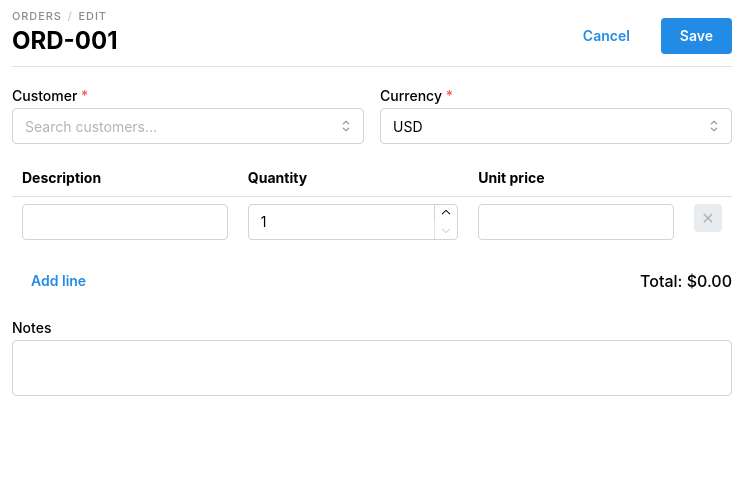
Test: OrderForm › shows a form-level alert for a whole-array error instead of dropping it silently
Click the field labelled "Customer *": (188, 126) [12, 108, 364, 144]
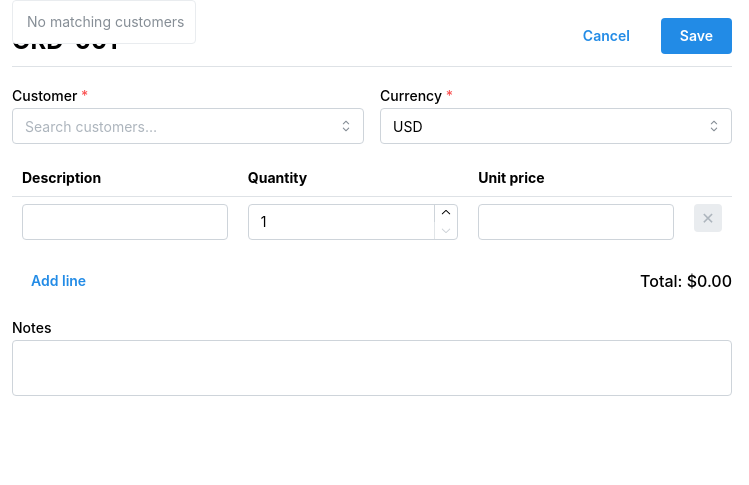
Focus the field labelled "Customer *": (188, 126) [12, 108, 364, 144]
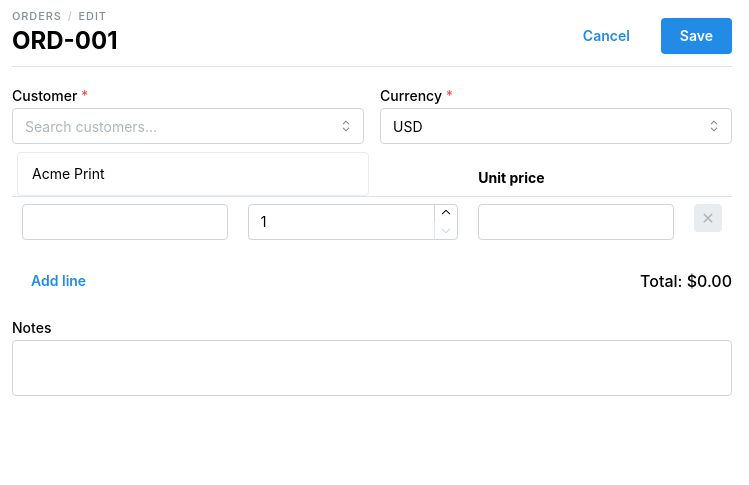
Click the option "Acme Print": (68, 174) [32, 165, 105, 182]
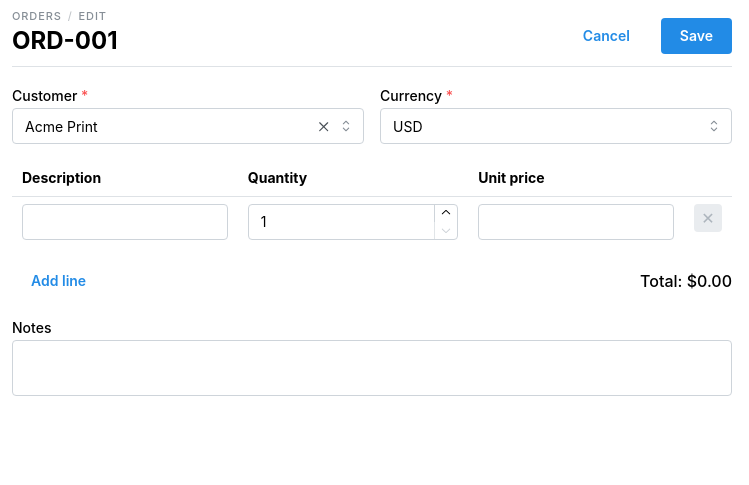
In the 3rd field: (125, 222) [22, 204, 228, 240], type "Business cards"
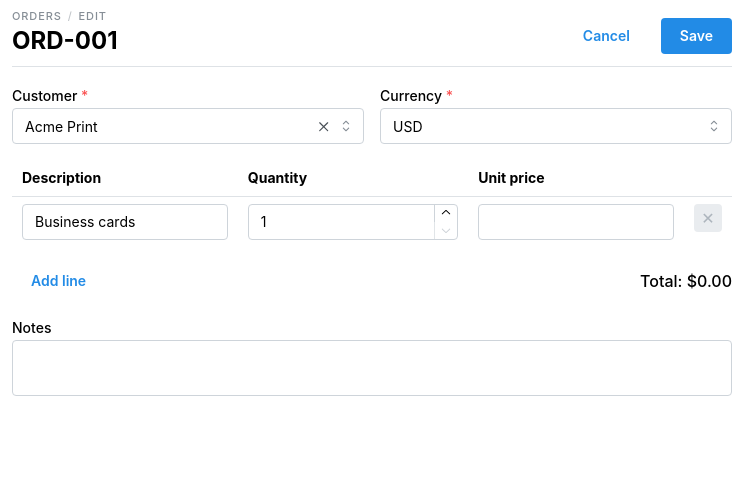
In the 5th field: (576, 222) [478, 204, 674, 240], type "10.00"
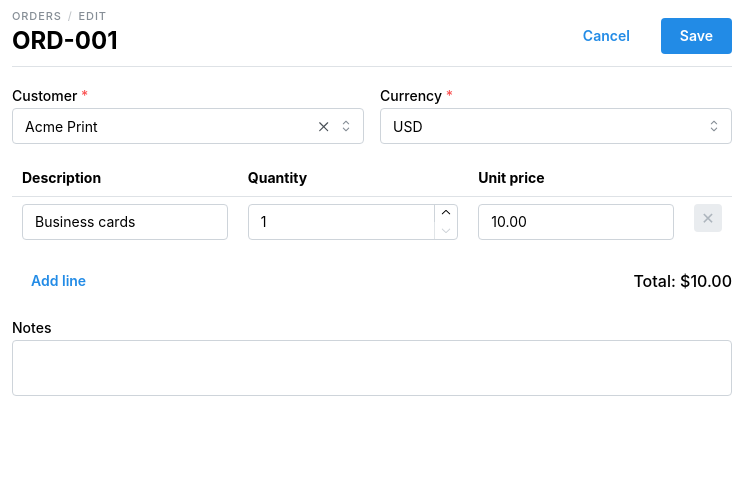
Click the button "Save": (696, 36) [661, 18, 732, 54]
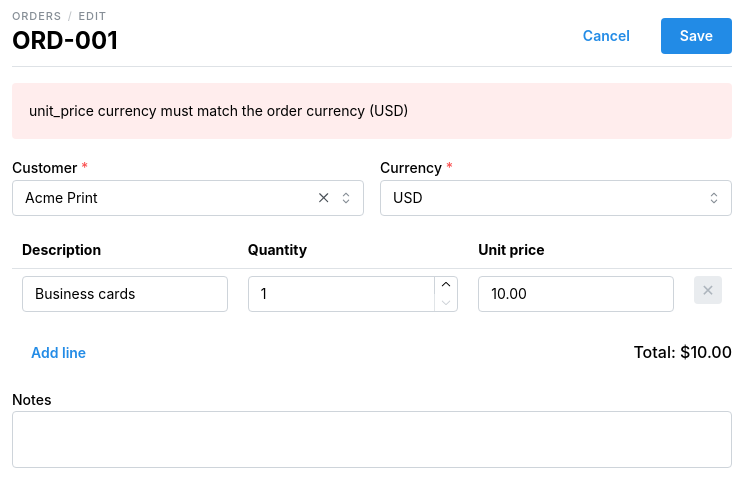
Expected: the text "unit_price currency must match the order currency (USD)" is shown, [29, 102, 409, 119]
